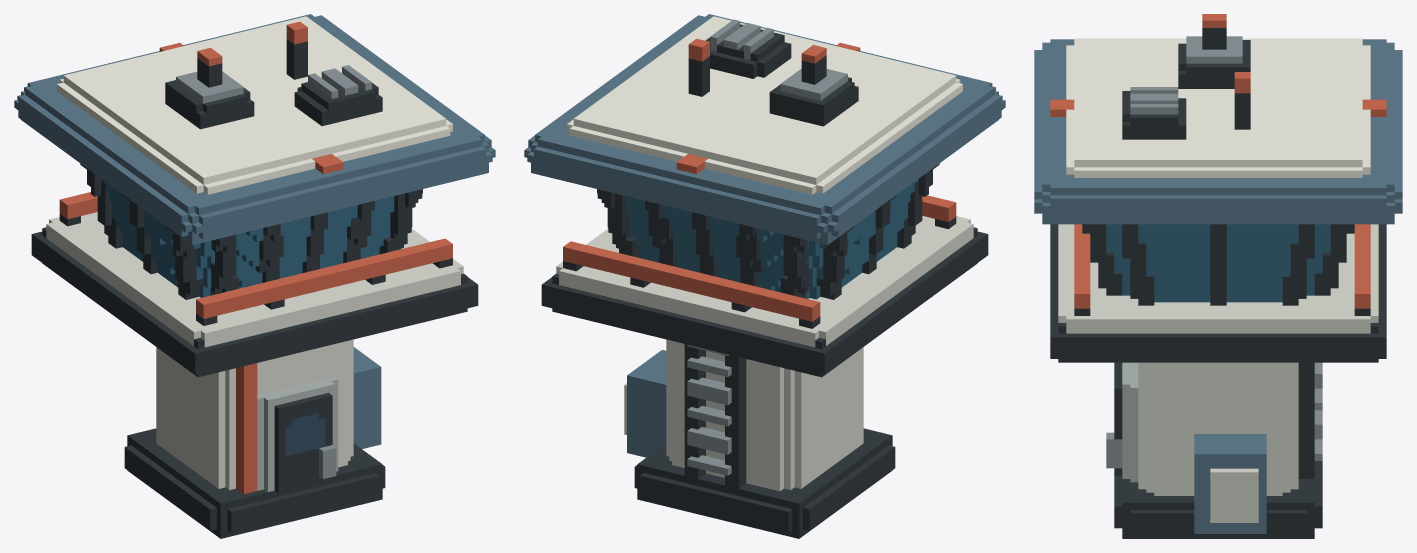
File: control_tower.glb
The picture shows the model from 3 angles, left to right: view 1: azimuth 30°, elevation 25°; view 2: azimuth 150°, elevation 25°; view 3: azimuth 270°, elevation 25°; orthographic projection. The views are drawn at different scales.
Visible parts, largest first — view 1: control_tower; view 2: control_tower; view 3: control_tower.
Part boxes in pixels (bbox=[...]): control_tower: bbox=[14, 14, 495, 538]; control_tower: bbox=[524, 14, 1005, 538]; control_tower: bbox=[1034, 14, 1402, 538].
Size of the model in its own units: 4.6 by 6.3 by 4.6.
